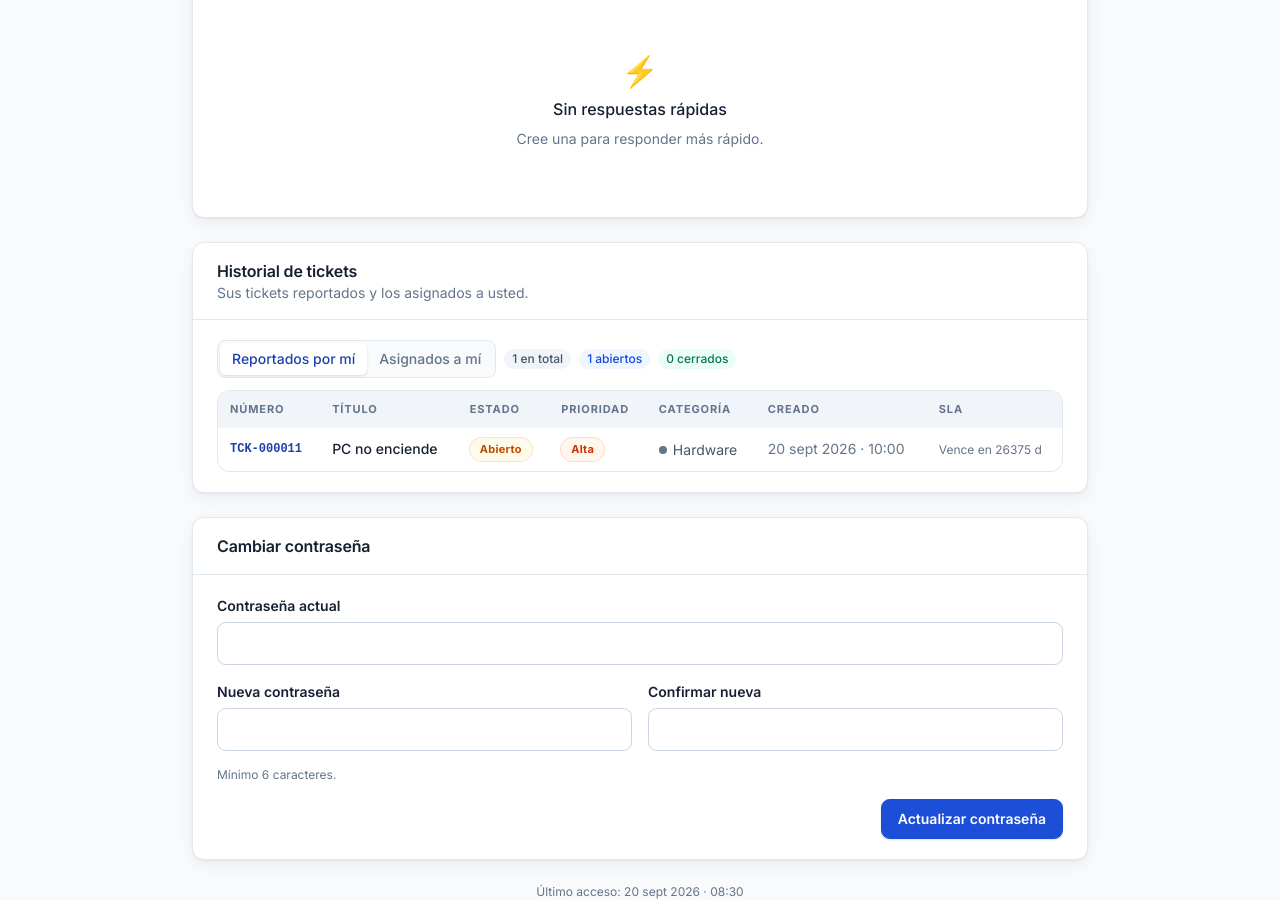
Test: Profile › cambia la contraseña y limpia los campos
(page scrolled)
Expected: the heading "Cambiar contraseña" is shown, [217,536,370,556]
Type "vieja123" into the password field labelled "Contraseña actual" at (640, 643), box [217,622,1063,665]
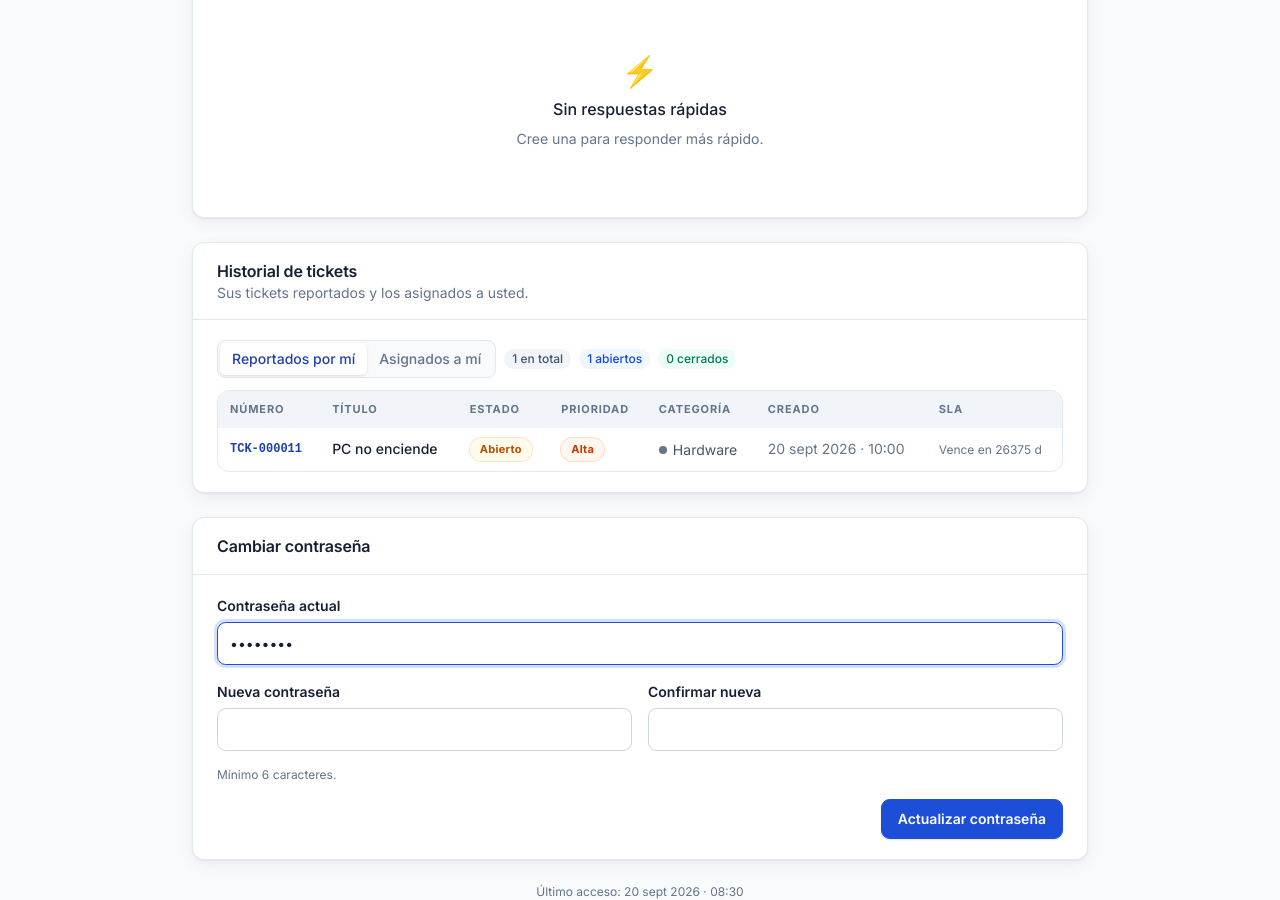
Type "NuevaClave123!" into the password field labelled "Nueva contraseña" at (424, 729), box [217,708,632,751]
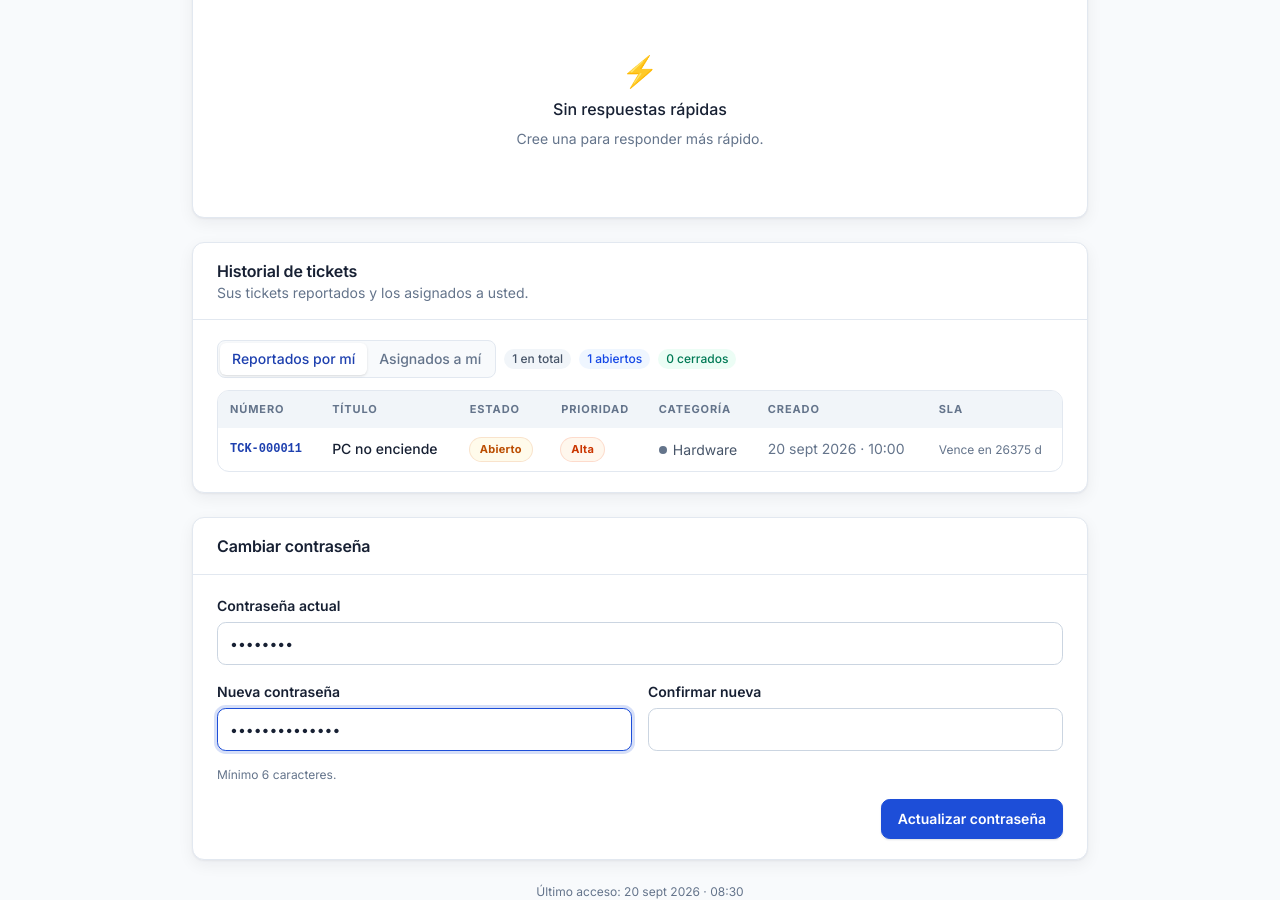
Type "NuevaClave123!" into the password field labelled "Confirmar nueva" at (856, 729), box [648,708,1063,751]
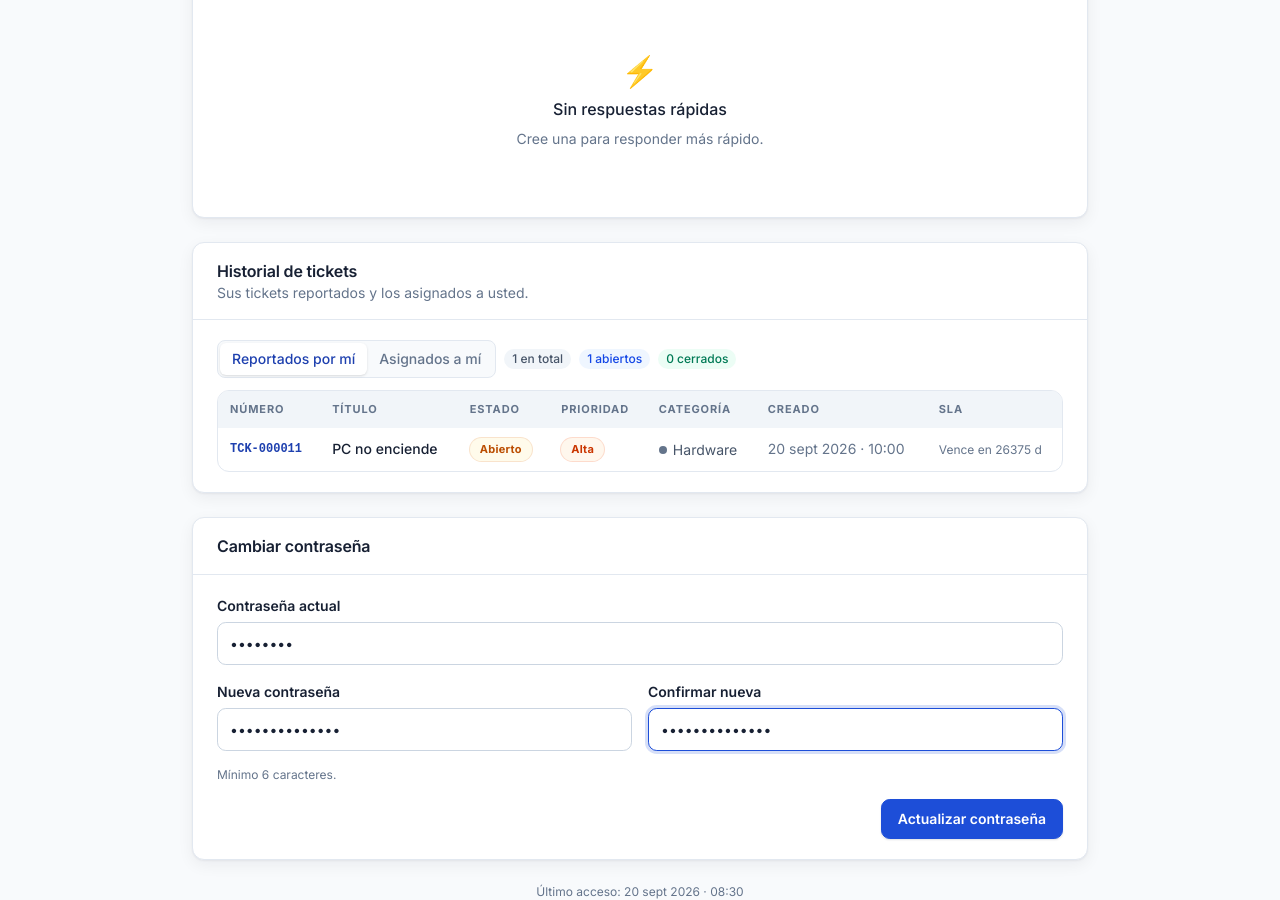
Click the button "Actualizar contraseña" at (972, 819), box [881,799,1063,839]
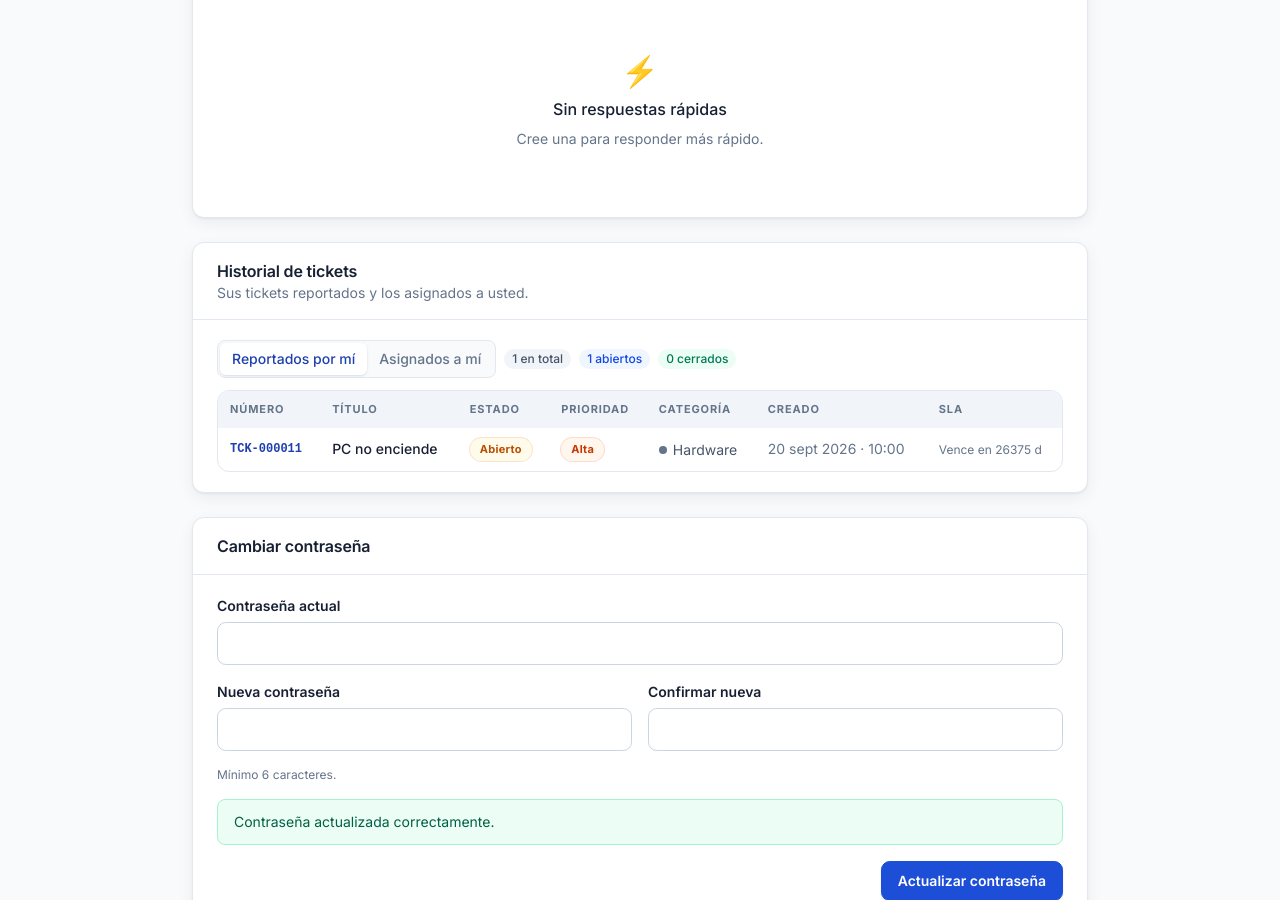
Expected: the text "Contraseña actualizada correctamente." is shown, [217,799,1063,845]
Expected: the password field labelled "Contraseña actual" is empty, [217,622,1063,665]
Expected: the password field labelled "Nueva contraseña" is empty, [217,708,632,751]
